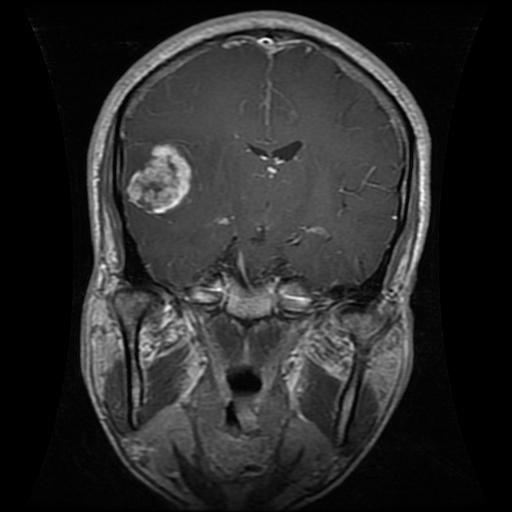glioma: (121, 141, 202, 216)
